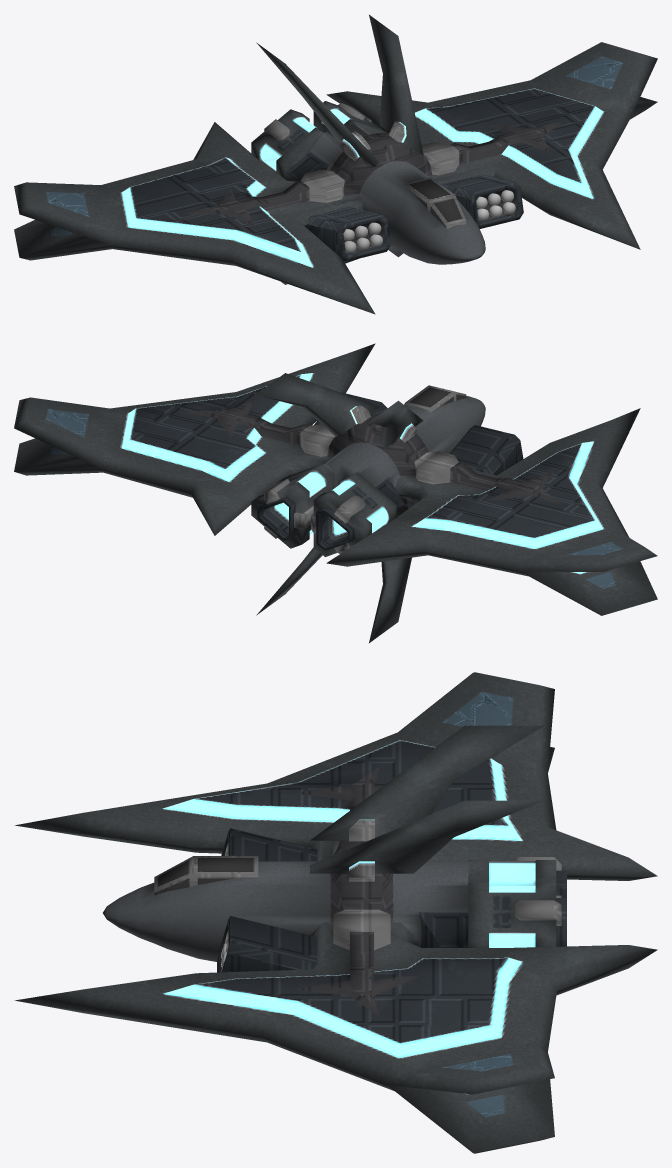
The model's file is scintillation.gltf.
3 views of the same model, one above another, from view 1: azimuth 30°, elevation 25°; view 2: azimuth 150°, elevation 25°; view 3: azimuth 270°, elevation 25° (orthographic). The views are drawn at different scales.
Parts seen in each view (by area): view 1: base; view 2: base; view 3: base.
Boxes of the visible parts, x1,y1,x2,y2 form: base: (14, 15, 657, 314); base: (14, 343, 657, 642); base: (14, 672, 657, 1153).
Bounding box in the file's own units: 8.66 × 2.87 × 5.59.
Materials: 1 (1 with a texture image).
